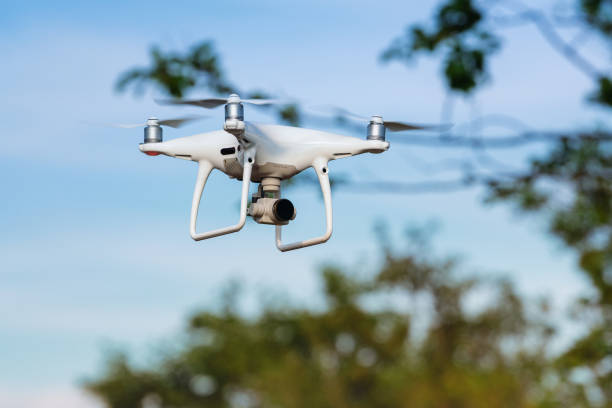Drone: (106, 90, 454, 260)
